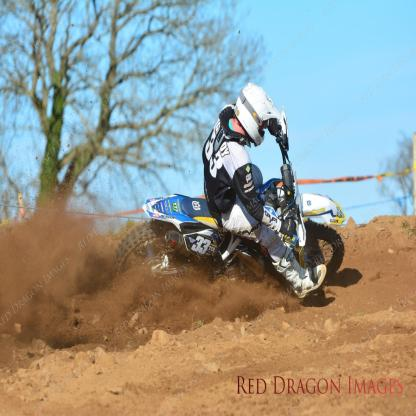Helmet: (233, 82, 281, 146)
